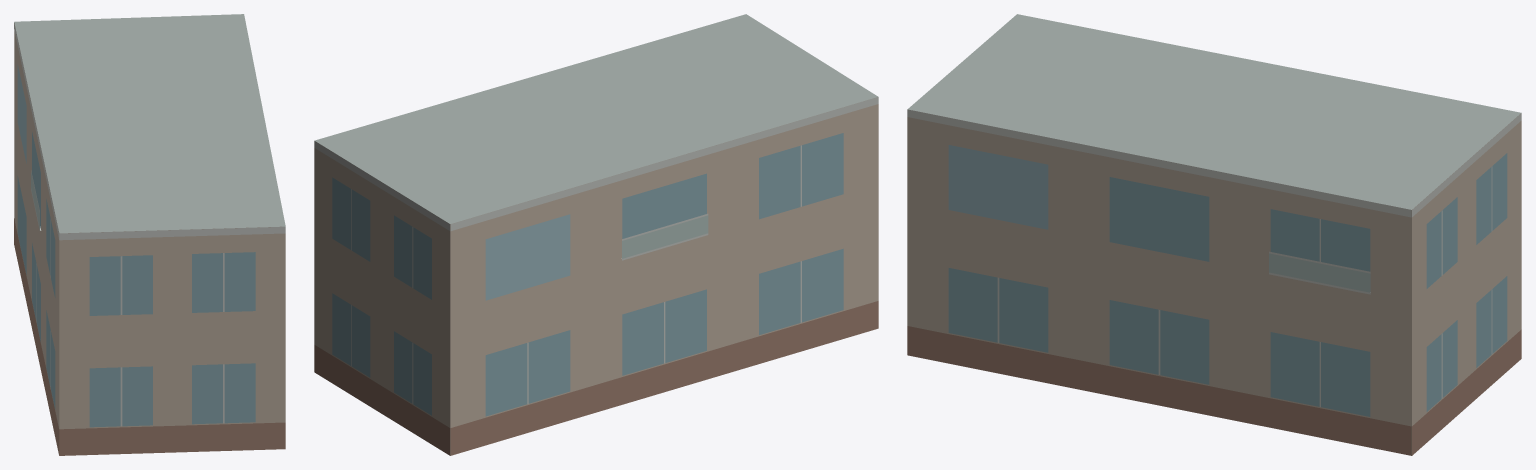
Rendered from survey-upis-32745964.glb.
3 renders of one model, left to right at view 1: azimuth 30°, elevation 25°; view 2: azimuth 150°, elevation 25°; view 3: azimuth 270°, elevation 25°, orthographic. The views are drawn at different scales.
Parts seen in each view (by area): view 1: survey-upis-32745964.tmp; view 2: survey-upis-32745964.tmp; view 3: survey-upis-32745964.tmp.
Boxes of the visible parts, bbox=[...] form: survey-upis-32745964.tmp: bbox=[14, 14, 285, 455]; survey-upis-32745964.tmp: bbox=[314, 14, 878, 455]; survey-upis-32745964.tmp: bbox=[907, 14, 1521, 455].
Bounding box in the file's own units: 13.51 × 7.9 × 17.89.
